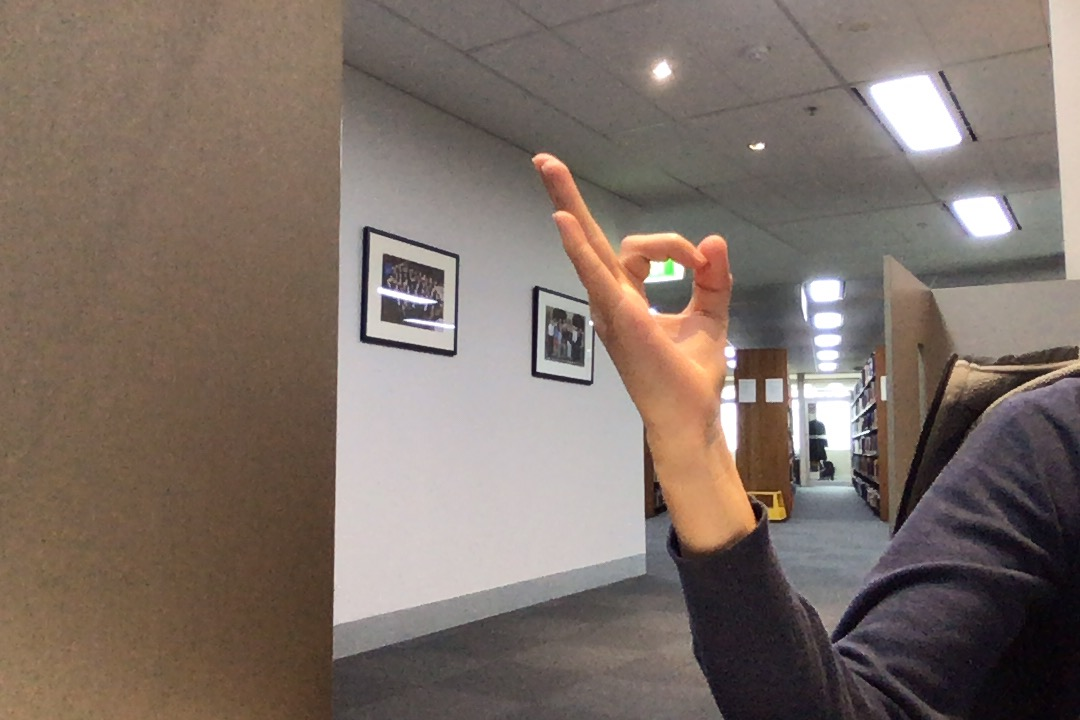oksign: (521, 142, 744, 433)
